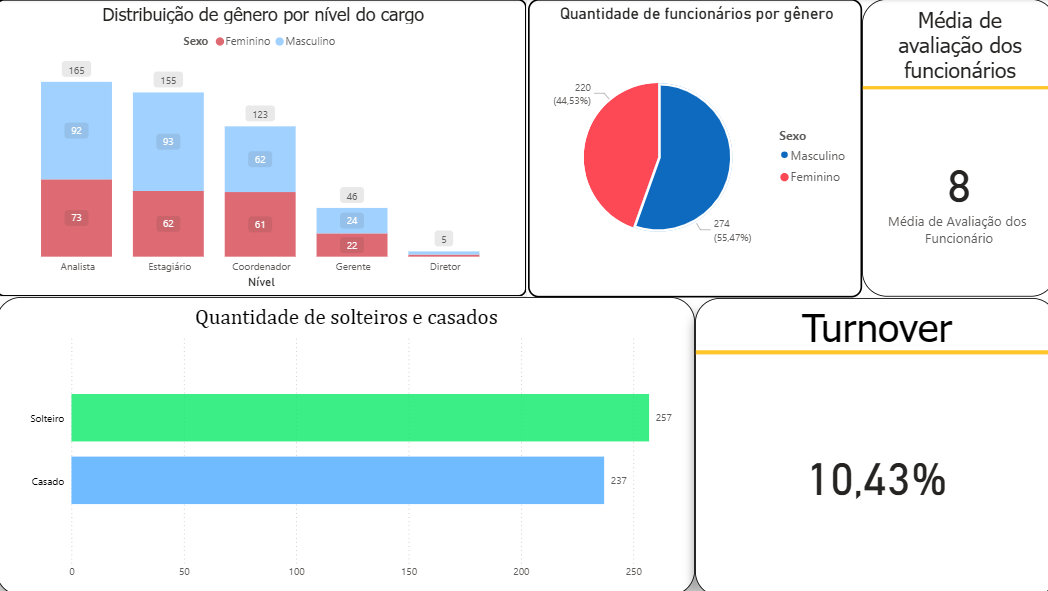

The dashboard page shown, as its layout file describes it:
{"tool":"powerbi","page":{"name":"Página 1","canvas":[1280,720],"ordinal":0},"visuals":[{"type":"pieChart","title":"Quantidade de funcionários por gênero","fields":{"Category":["BaseFuncionarios.Sexo"],"Y":["CountNonNull(BaseFuncionarios.Sexo)"]},"box":[641,1,403.6,358.9],"z":0},{"type":"card","title":"Média de avaliação dos funcionários","fields":{"Values":["Avg(BaseFuncionarios.Avaliação do Funcionário)"]},"box":[1045,0,234.3,359.1],"z":1000},{"type":"columnChart","title":"Distribuição de gênero por nível do cargo","fields":{"Category":["BaseFuncionarios.Nível"],"Y":["CountNonNull(BaseFuncionarios.Sexo)"],"Series":["BaseFuncionarios.Sexo"]},"box":[0,0,648.8,358.9],"z":2000},{"type":"clusteredBarChart","title":"Quantidade de solteiros e casados  ","fields":{"Category":["BaseFuncionarios.Estado Civil"],"Y":["CountNonNull(BaseFuncionarios.Estado Civil)"]},"box":[0,359.9,843.3,359.9],"z":3000},{"type":"card","title":"Turnover","fields":{"Values":["BaseFuncionarios.Turnover"]},"box":[843,359.9,436.7,359.9],"z":4003}]}

Visuals, with their boxes in screenshot pixels (x1, y1, x2, y2), scaled from the page's 1280x720 canvas onto the 1048x591 screenshot:
"Quantidade de funcionários por gênero" pieChart: BBox(525, 1, 855, 295)
"Média de avaliação dos funcionários" card: BBox(856, 0, 1047, 295)
"Distribuição de gênero por nível do cargo" columnChart: BBox(0, 0, 531, 295)
"Quantidade de solteiros e casados  " clusteredBarChart: BBox(0, 295, 690, 590)
"Turnover" card: BBox(690, 295, 1047, 590)
